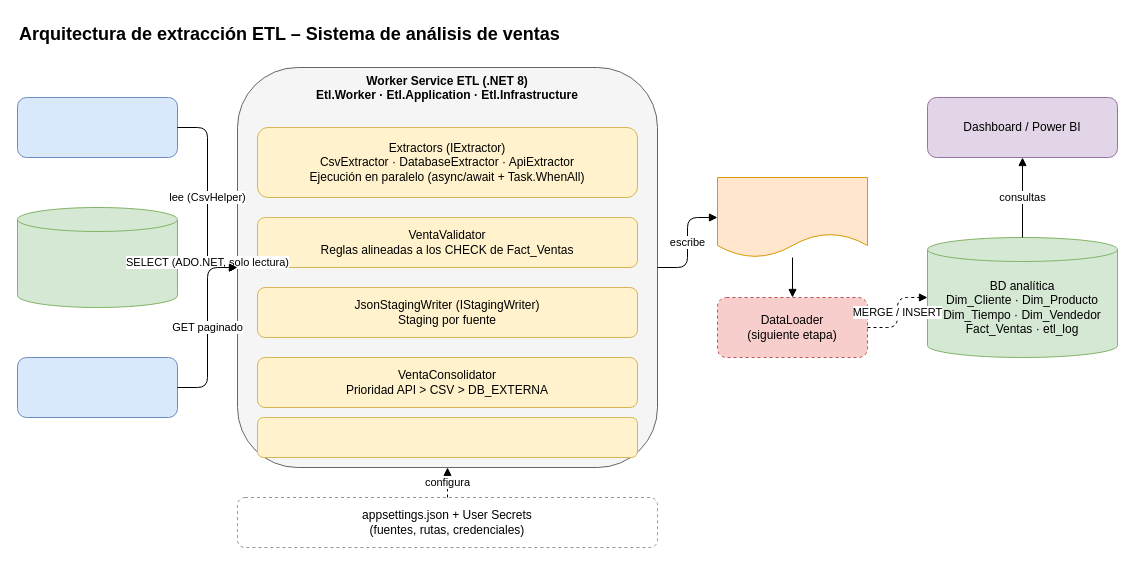
This 1135x565 diagram has some shape labels left out. The shapes that lost their labels are listed below. From the top down, each one's centre as x and y in pixels, then its label:
At (x=97, y=127): "Archivos CSV (encuestas / ventas)".
At (x=792, y=217): "Staging (JSON por fuente + consolidado)".
At (x=97, y=257): "BD relacional SQL Server (Ventas, DetalleVentas, Productos, Clientes)".
At (x=97, y=387): "API REST (HttpClient + Bearer token)".
At (x=447, y=437): "ILogger + Serilog · IEtlAuditLog logs/ y tabla etl_log".
